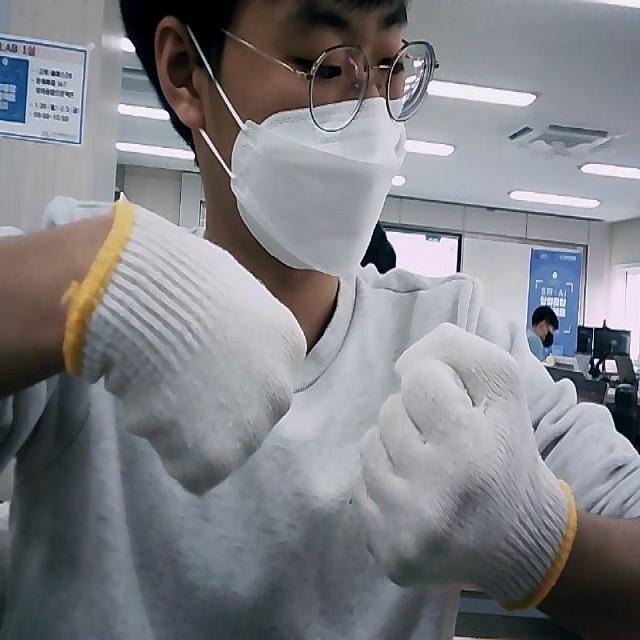Guantes: (60, 196, 307, 495), (352, 323, 582, 612)
